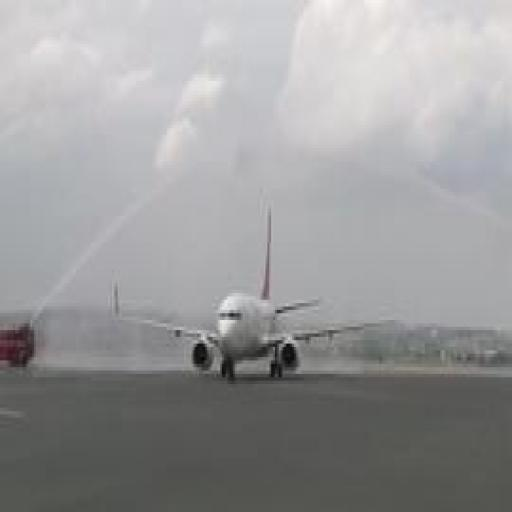aircraft: (112, 205, 363, 376)
